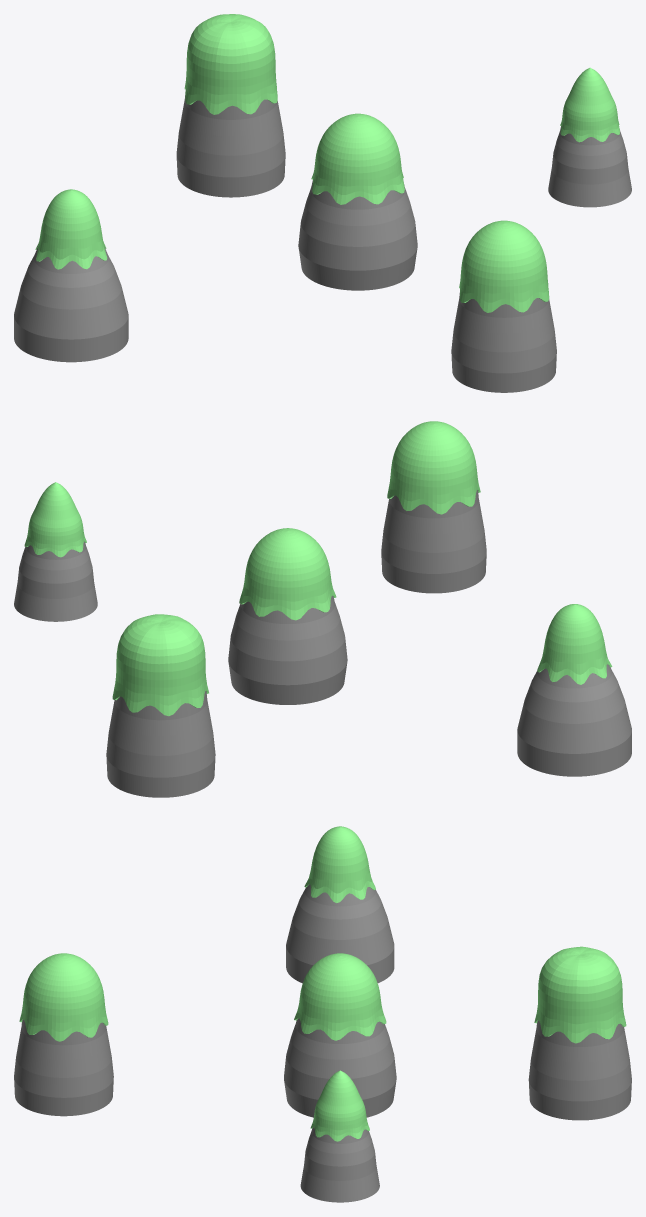
Rendered from CuteRock-5.fbx.
The picture shows the model from 3 angles, top to bottom: view 1: azimuth 30°, elevation 25°; view 2: azimuth 150°, elevation 25°; view 3: azimuth 270°, elevation 25°; orthographic projection. The views are drawn at different scales.
Parts seen in each view (by area): view 1: Sphere.002, Sphere, Sphere.001, Sphere.003, Sphere.004; view 2: Sphere.002, Sphere, Sphere.001, Sphere.003, Sphere.004; view 3: Sphere.002, Sphere.001, Sphere, Sphere.003, Sphere.004.
Boxes of the visible parts, x1,y1,x2,y2 form: Sphere.002: (176, 14, 285, 197); Sphere: (298, 113, 417, 290); Sphere.001: (451, 220, 556, 392); Sphere.003: (14, 189, 128, 362); Sphere.004: (548, 67, 631, 207); Sphere.002: (106, 614, 215, 797); Sphere: (228, 528, 347, 704); Sphere.001: (381, 421, 486, 593); Sphere.003: (517, 604, 631, 776); Sphere.004: (14, 482, 97, 621); Sphere.002: (528, 946, 631, 1120); Sphere.001: (14, 953, 113, 1116); Sphere: (284, 953, 396, 1117); Sphere.003: (286, 826, 394, 983); Sphere.004: (300, 1070, 379, 1202).
Bounding box in the file's own units: 1488 × 362 × 1393.
